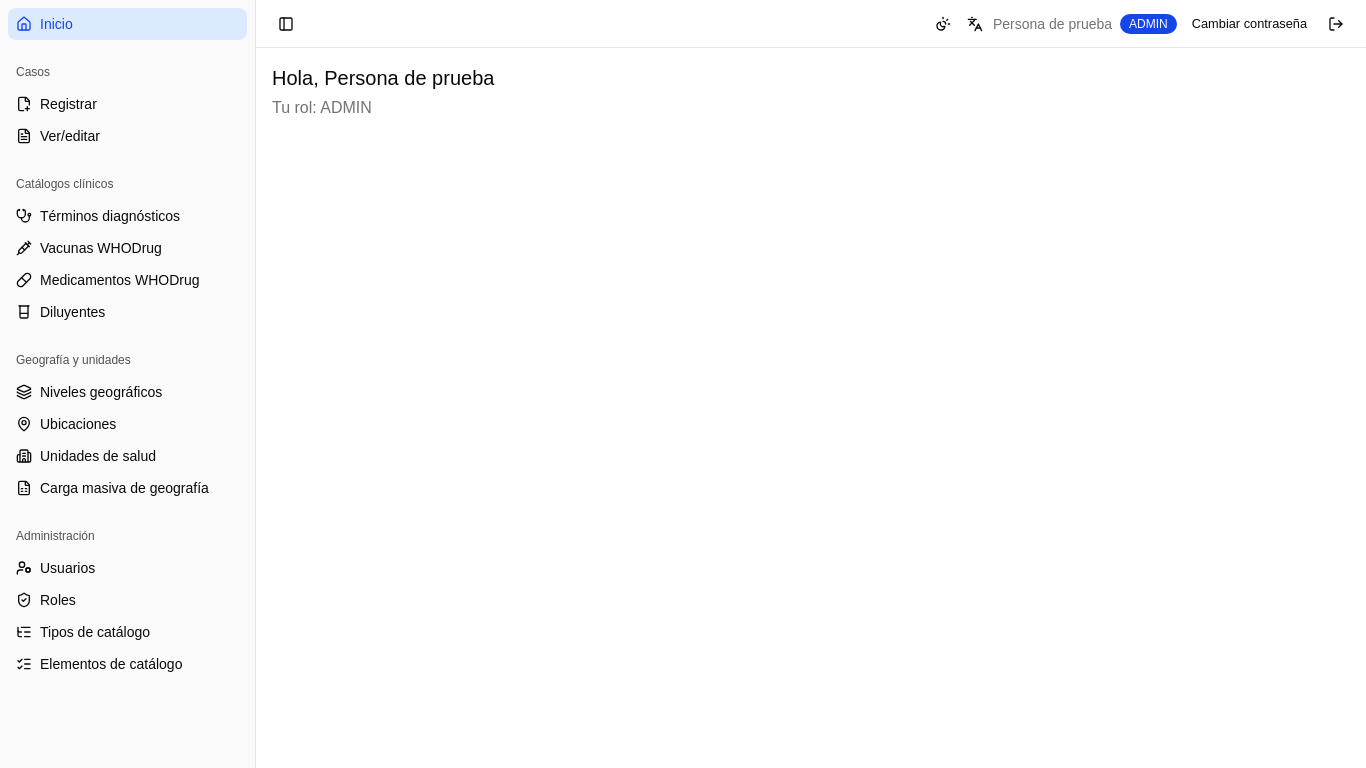
Test: Ruta /catalog-items — navegación desde el sidebar › el enlace del sidebar navega a la pantalla de elementos de catálogo
Click the link "Elementos de catálogo" at (99, 664), box [16, 656, 182, 672]
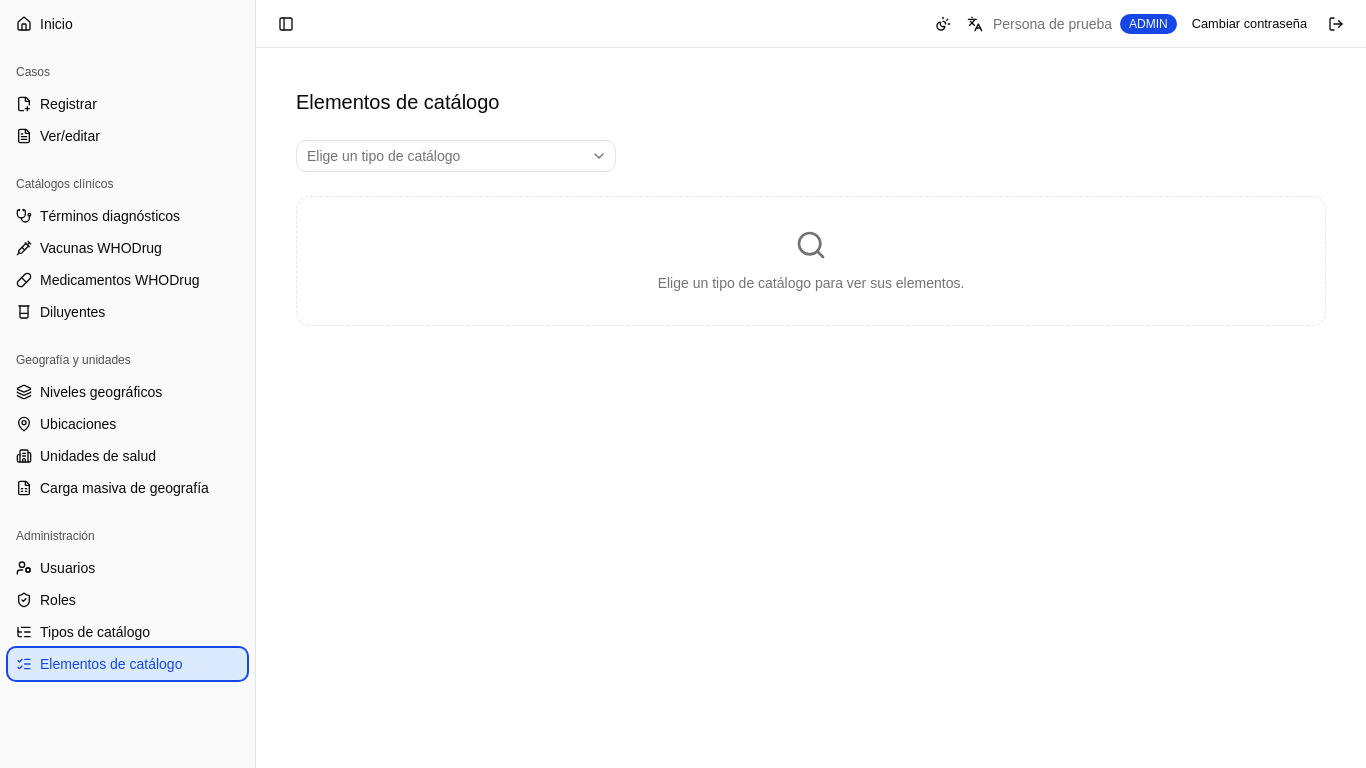
Expected: the heading "Elementos de catálogo" is shown, [296, 88, 500, 116]
